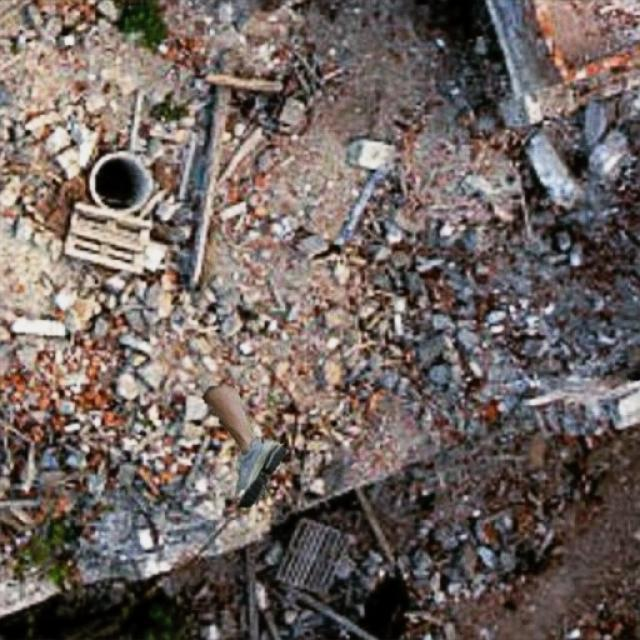Person in Rubble: (202, 386, 284, 506)
